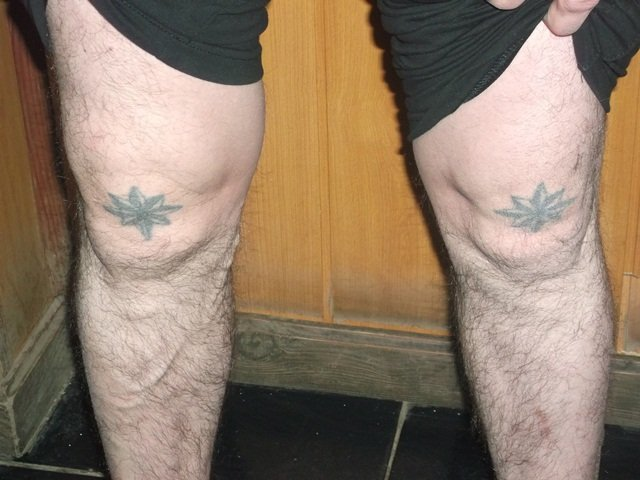tatu4_zvezda: (100, 186, 184, 244), (493, 181, 579, 237)
